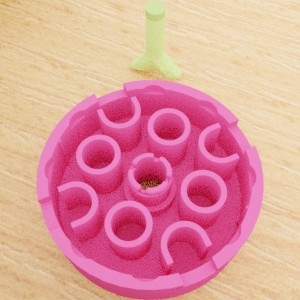lego: (36, 79, 263, 300), (130, 0, 181, 79)
